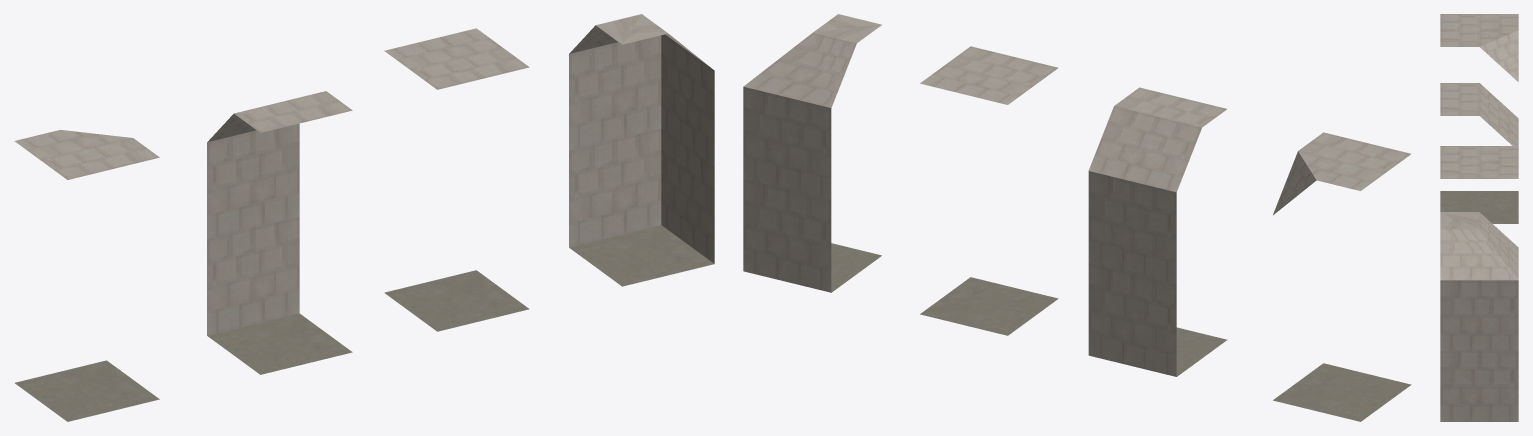
The model's file is tileset.glb.
3 views of the same model, side by side, from view 1: azimuth 30°, elevation 25°; view 2: azimuth 150°, elevation 25°; view 3: azimuth 270°, elevation 25° (orthographic). The views are drawn at different scales.
Parts seen in each view (by area): view 1: corner-in-col, wall-col, floor-col, corner-out-col; view 2: wall-col, corner-in-col, corner-out-col, floor-col; view 3: corner-in-col, corner-out-col, wall-col, floor-col.
Boxes of the visible parts, x1,y1,x2,y2 form: corner-in-col: (569,14,714,286); wall-col: (207,91,352,374); floor-col: (384,28,529,331); corner-out-col: (14,130,159,421); wall-col: (1088,87,1227,376); corner-in-col: (743,14,881,292); corner-out-col: (1273,132,1411,421); floor-col: (920,46,1058,335); corner-in-col: (1440,212,1518,421); corner-out-col: (1440,14,1518,223); wall-col: (1440,83,1518,145); floor-col: (1440,146,1518,178).
Size of the model in its own units: 7 by 2.5 by 1.
Materials: 1 (1 with a texture image).
